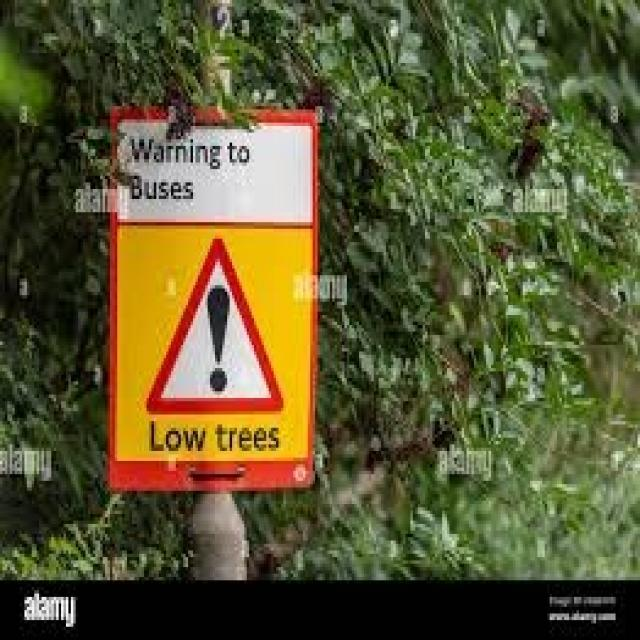warning: (146, 231, 279, 426)
